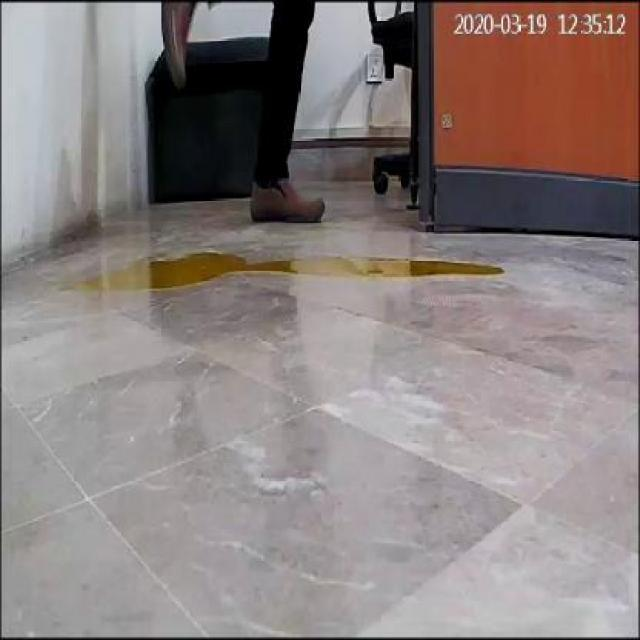spill: (81, 245, 506, 293)
